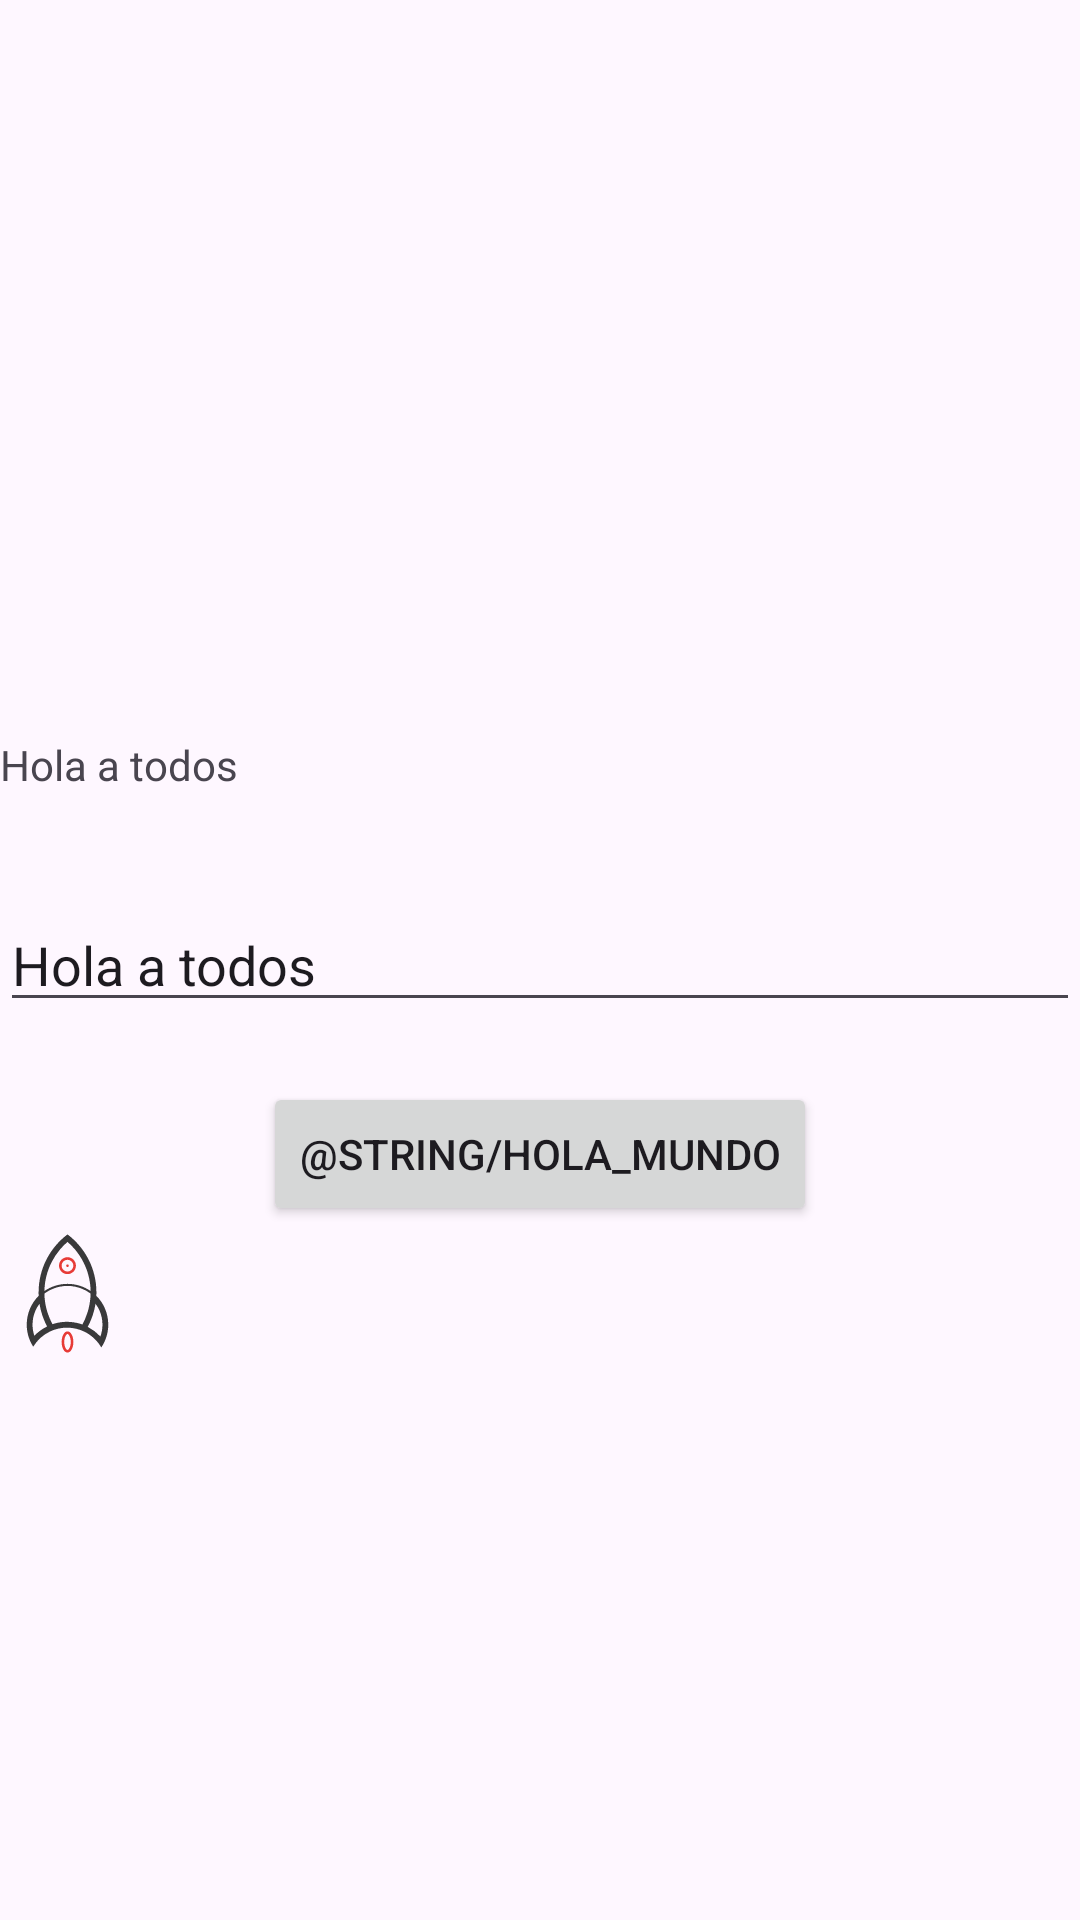

Icon click points for this 1080 x 1920 phone screenshot, format (x,y):
cohete: (67,1293)
